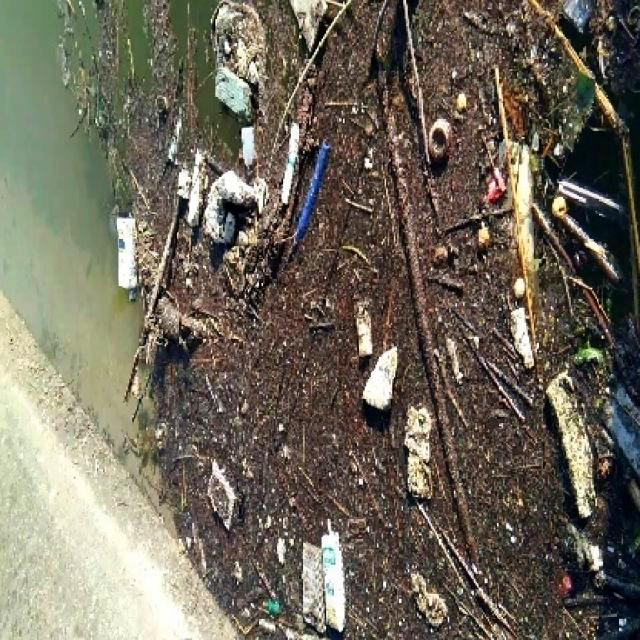Metal: (311, 524, 354, 635), (108, 204, 144, 296)
Trash: (267, 120, 328, 244), (349, 331, 412, 407), (494, 311, 534, 365)
